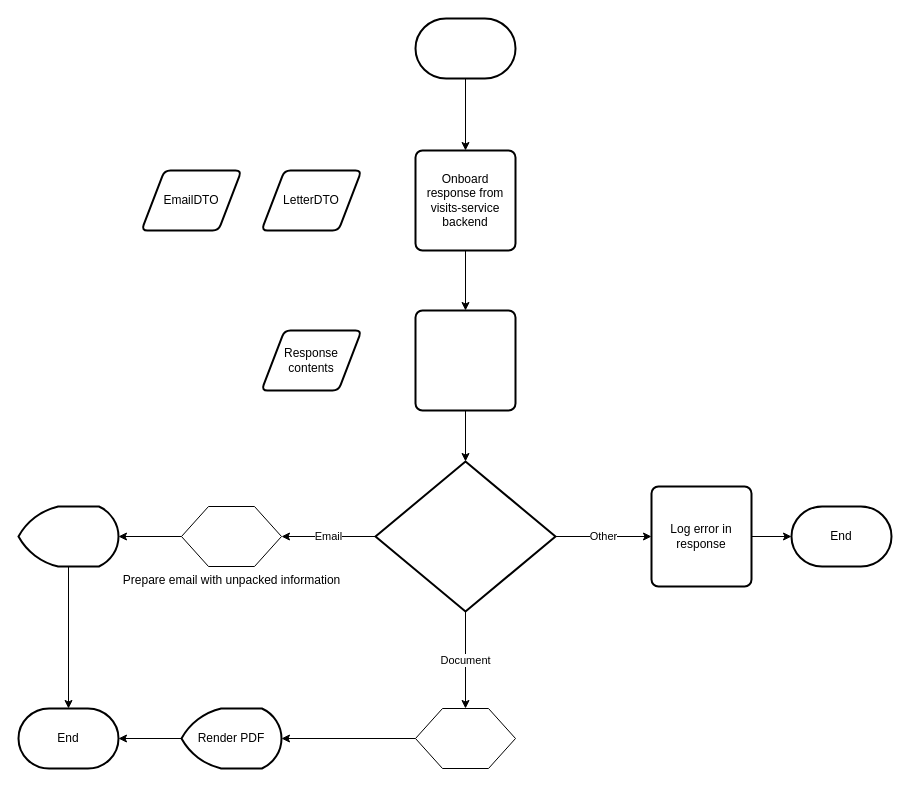
This 909x806 diagram has some shape labels left out. The shapes that lost their labels are listed below. From the top down, each one's box as (x1, y1, x2, y2) in pixels, then its label:
(414, 17, 516, 79): Start
(414, 309, 516, 411): Unpack information from response
(17, 505, 119, 567): Render email
(374, 460, 556, 612): What is the document type, based on the response structure?
(414, 708, 516, 768): Prepare PDF with unpacked information
